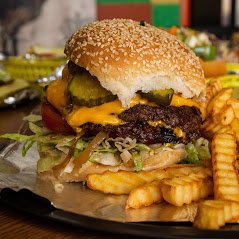soup: (24, 14, 222, 200)
